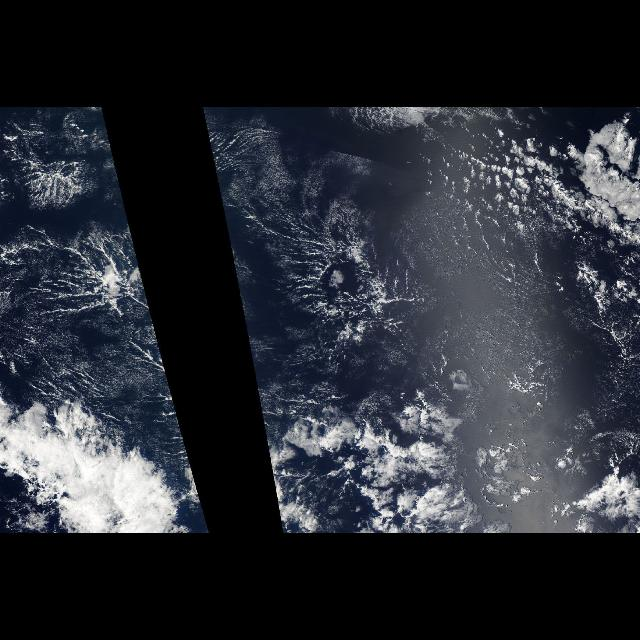Gravel: (243, 181, 515, 383)
Sugar: (324, 204, 624, 418), (4, 144, 174, 402)
